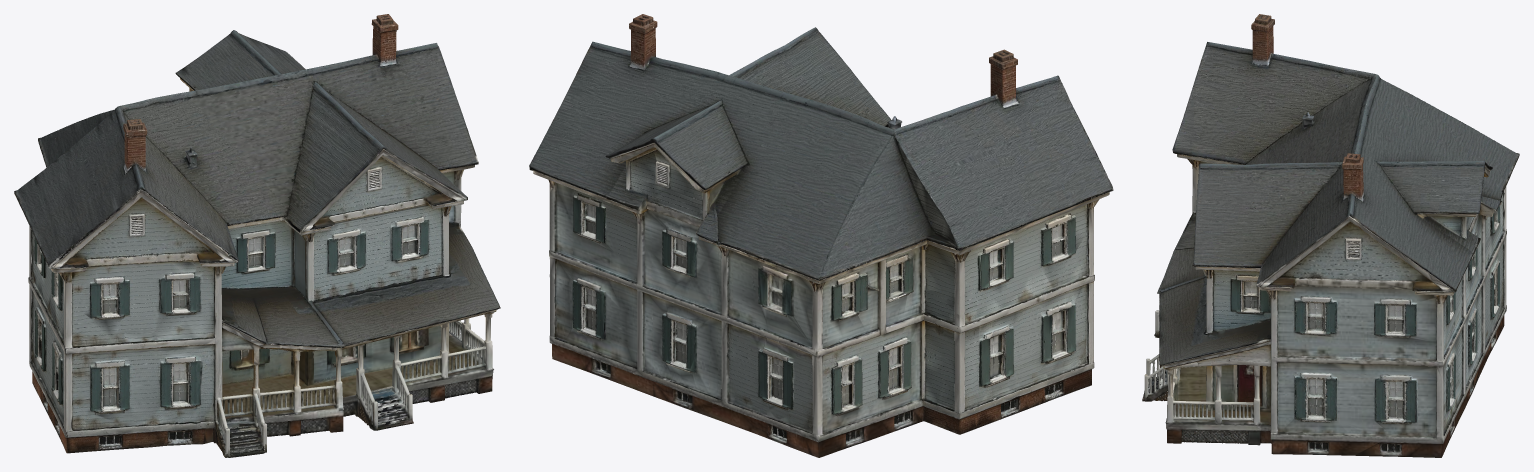
Rendered from home-main.glb.
3 renders of one model, left to right at view 1: azimuth 30°, elevation 25°; view 2: azimuth 150°, elevation 25°; view 3: azimuth 270°, elevation 25°, orthographic. The views are drawn at different scales.
Parts seen in each view (by area): view 1: tripo_part_16, tripo_part_6, tripo_part_35, tripo_part_33, tripo_part_29, tripo_part_36, tripo_part_25, tripo_part_23, tripo_part_7, tripo_part_28, tripo_part_34, tripo_part_19 (+7 smaller); view 2: tripo_part_35, tripo_part_33, tripo_part_16, tripo_part_6, tripo_part_22, tripo_part_14, tripo_part_38, tripo_part_0, tripo_part_32, tripo_part_40, tripo_part_8, tripo_part_39 (+4 smaller); view 3: tripo_part_33, tripo_part_35, tripo_part_16, tripo_part_29, tripo_part_43, tripo_part_36, tripo_part_42, tripo_part_44, tripo_part_41, tripo_part_45, tripo_part_22, tripo_part_8 (+4 smaller).
Part boxes in pixels (<box>): tripo_part_16: <box>14,47,452,279</box>; tripo_part_6: <box>28,226,229,453</box>; tripo_part_35: <box>24,30,478,231</box>; tripo_part_33: <box>100,162,493,447</box>; tripo_part_29: <box>221,222,500,360</box>; tripo_part_36: <box>314,200,448,299</box>; tripo_part_25: <box>221,220,299,292</box>; tripo_part_23: <box>222,348,356,411</box>; tripo_part_7: <box>74,198,202,257</box>; tripo_part_28: <box>278,193,461,307</box>; tripo_part_34: <box>323,156,433,215</box>; tripo_part_19: <box>214,365,266,457</box>; tripo_part_35: <box>529,27,957,279</box>; tripo_part_33: <box>548,180,925,457</box>; tripo_part_16: <box>652,56,1113,283</box>; tripo_part_6: <box>919,200,1096,434</box>; tripo_part_22: <box>728,330,812,430</box>; tripo_part_14: <box>822,325,914,414</box>; tripo_part_38: <box>572,193,636,255</box>; tripo_part_0: <box>1040,213,1075,266</box>; tripo_part_32: <box>662,313,691,368</box>; tripo_part_40: <box>572,278,602,337</box>; tripo_part_8: <box>989,49,1017,106</box>; tripo_part_39: <box>629,14,657,68</box>; tripo_part_33: <box>1144,186,1506,457</box>; tripo_part_35: <box>1192,75,1519,295</box>; tripo_part_16: <box>1172,42,1519,247</box>; tripo_part_29: <box>1157,211,1270,374</box>; tripo_part_43: <box>1277,222,1421,281</box>; tripo_part_36: <box>1206,270,1270,333</box>; tripo_part_42: <box>1292,372,1336,422</box>; tripo_part_44: <box>1374,375,1415,424</box>; tripo_part_41: <box>1290,296,1337,335</box>; tripo_part_45: <box>1374,299,1416,336</box>; tripo_part_22: <box>1485,245,1505,343</box>; tripo_part_8: <box>1251,14,1276,65</box>.
Bounding box in the file's own units: 0.9995 × 0.6536 × 0.7793.
Materials: 46 (46 with a texture image).
